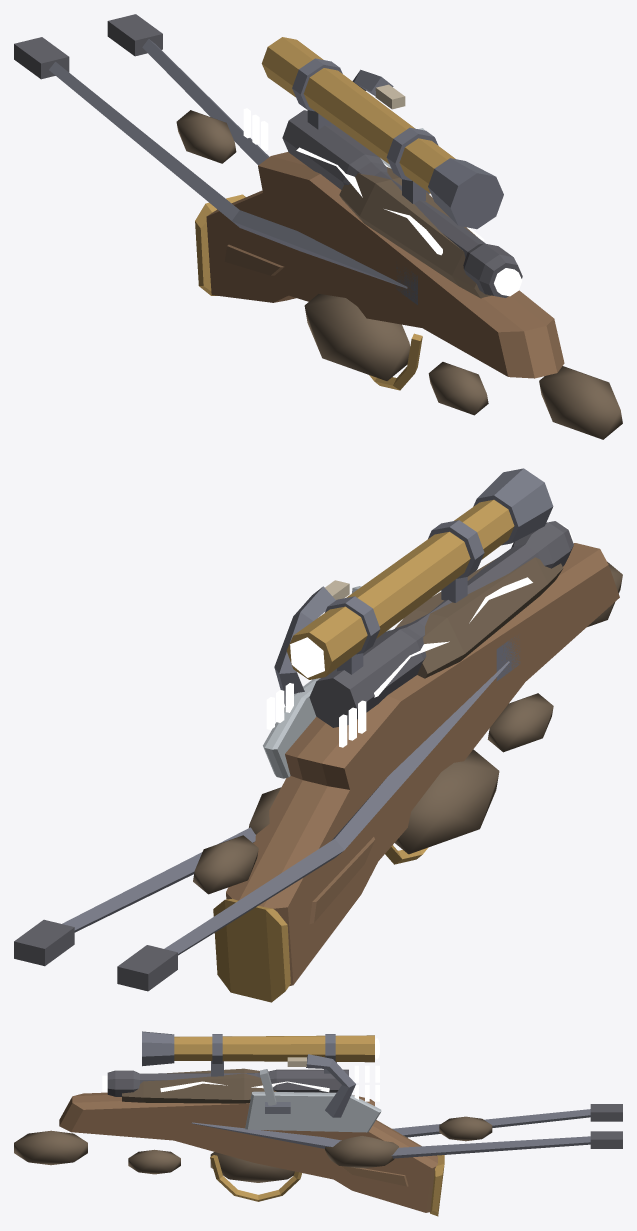
The model's file is gun-stalking-rifle.glb.
The picture shows the model from 3 angles, top to bottom: view 1: azimuth 30°, elevation 25°; view 2: azimuth 150°, elevation 25°; view 3: azimuth 270°, elevation 25°; orthographic projection. The views are drawn at different scales.
Parts seen in each view (by area): view 1: gun-stalking-rifle, pulse_vein, pulse_breath; view 2: gun-stalking-rifle, pulse_breath, pulse_vein; view 3: gun-stalking-rifle, pulse_breath, pulse_vein.
Part boxes in pixels (<box>): gun-stalking-rifle: <box>14,14,622,439</box>; pulse_vein: <box>296,147,484,255</box>; pulse_breath: <box>243,108,268,150</box>; gun-stalking-rifle: <box>14,468,622,1002</box>; pulse_breath: <box>266,683,366,747</box>; pulse_vein: <box>374,566,532,697</box>; gun-stalking-rifle: <box>14,1031,622,1216</box>; pulse_breath: <box>354,1065,379,1101</box>; pulse_vein: <box>160,1081,329,1092</box>.
Bounding box in the file's own units: 0.13 × 0.305 × 0.9399.
